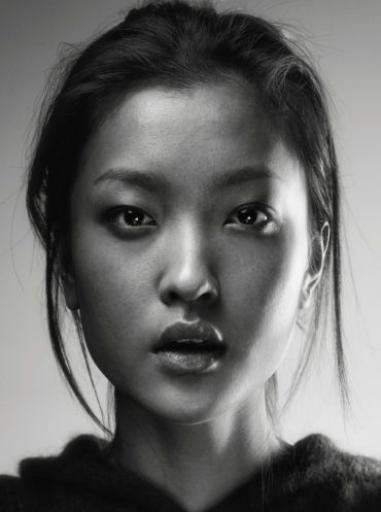left_eye: (222, 201, 281, 239)
left_lip_corner: (217, 337, 235, 365)
right_eye: (102, 205, 160, 236)
right_lip_corner: (145, 340, 162, 365)
